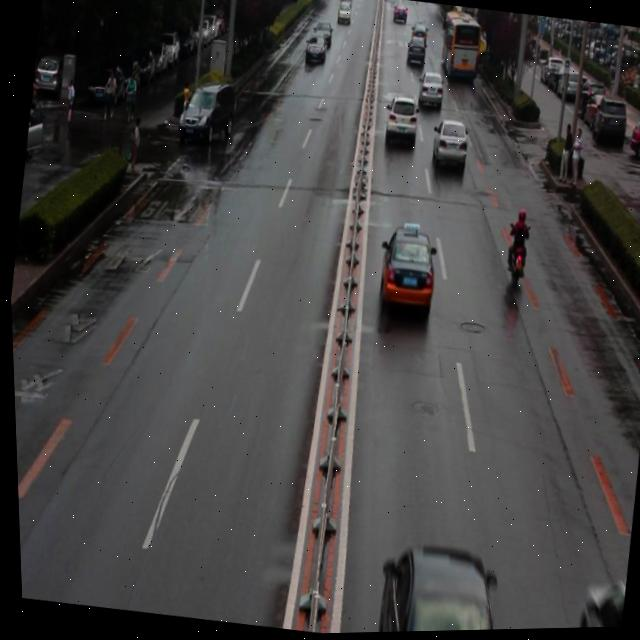car: (365, 539, 504, 634), (370, 224, 437, 317), (427, 119, 468, 175), (380, 97, 420, 152)
truck: (175, 80, 237, 151)
